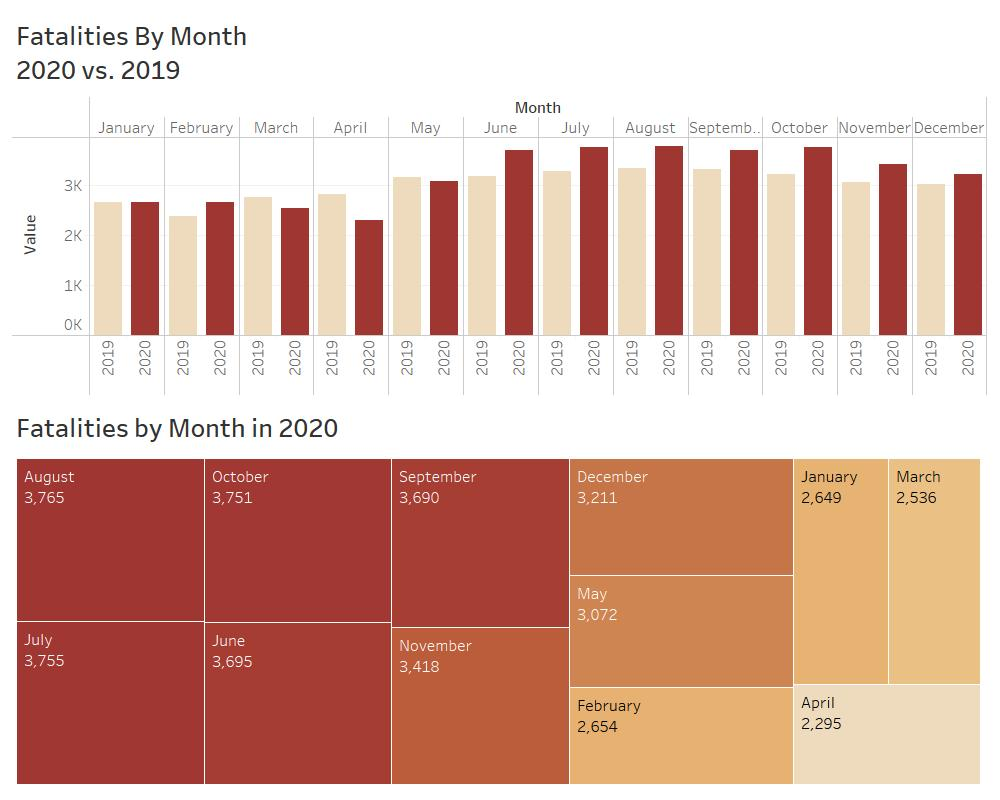

The dashboard page shown, as its layout file describes it:
{"tool":"tableau","page":{"name":"Dashboard 3","canvas":[1000,800],"ordinal":1},"visuals":[{"type":"worksheet","title":"Sheet 8","mark":"Automatic","cols":["month_of_crash_name"],"box":[8,8,984,392]},{"type":"worksheet","title":"Sheet 9","mark":"Automatic","box":[8,400,984,392]}]}

Visuals, with their boxes in screenshot pixels (x1, y1, x2, y2), scaled from the page's 1000x800 canvas onto the 1000x800 screenshot:
"Sheet 8" worksheet: locate(8, 8, 992, 400)
"Sheet 9" worksheet: locate(8, 400, 992, 792)
